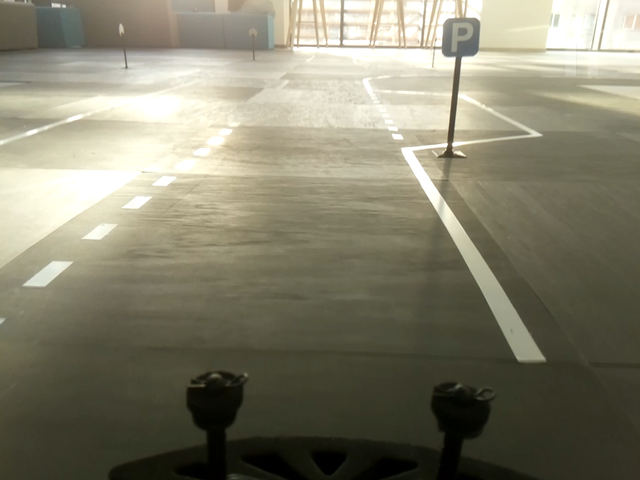parking: (442, 19, 479, 58)
